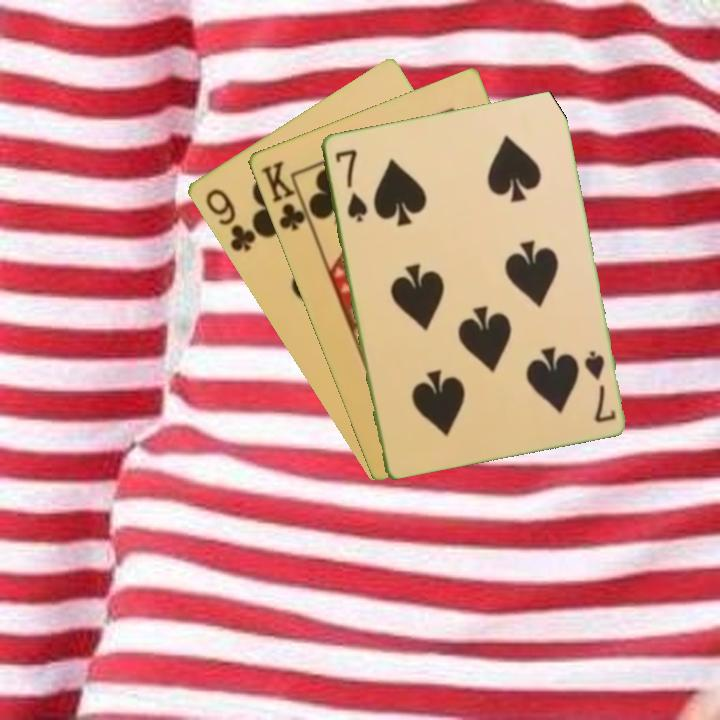7s: (331, 145, 370, 224), (580, 347, 618, 426)
9c: (201, 184, 259, 255)
Kc: (257, 156, 314, 234)
